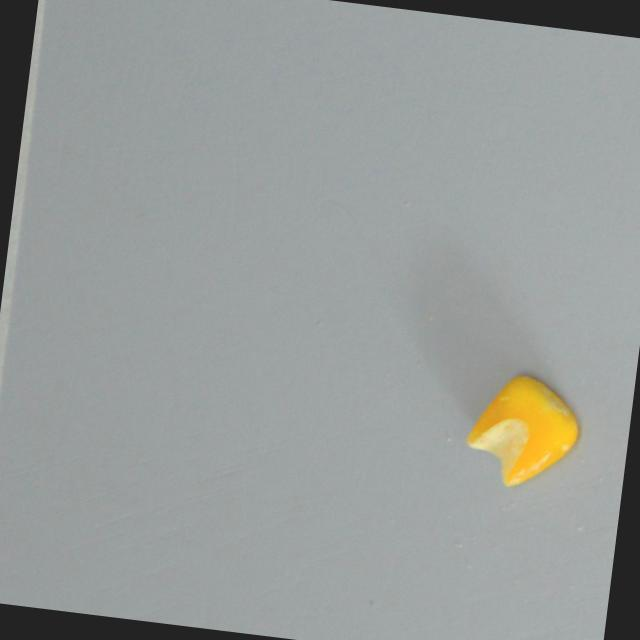pelicula: (460, 365, 583, 493)
